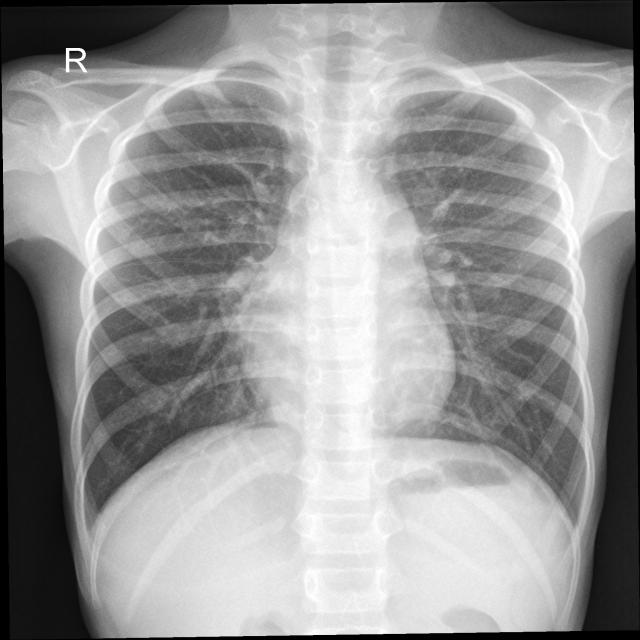no-pneumonia: (85, 77, 308, 507), (382, 92, 587, 520)
